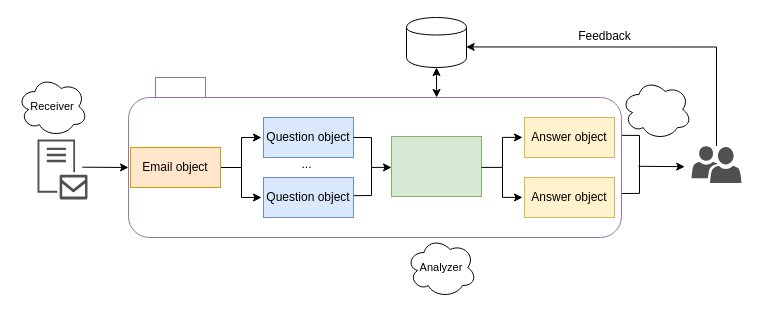
Image size: 759x315. Some labels were removed from this diagram. The centre of each missing label's shape, as x and y in pixels:
Answer Factory: the point at 436,166
CORE: the point at 180,87
DB: the point at 436,42
Sender: the point at 656,109
